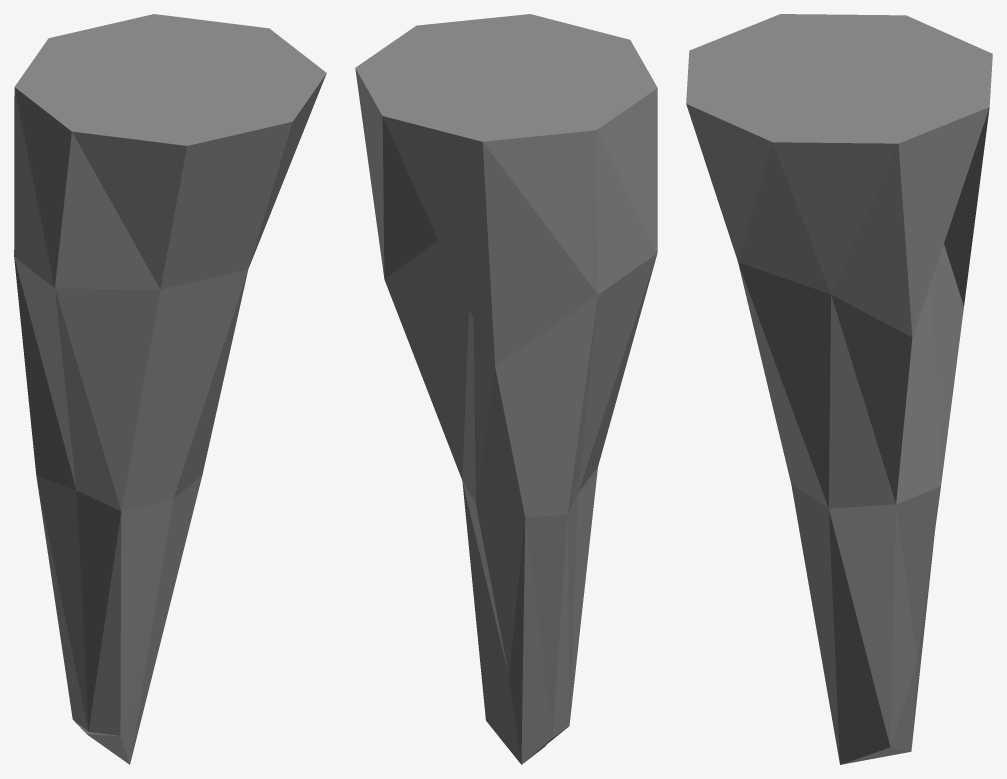
The model's file is Stalactite 5.fbx.
3 views of the same model, side by side, from view 1: azimuth 30°, elevation 25°; view 2: azimuth 150°, elevation 25°; view 3: azimuth 270°, elevation 25° (orthographic). The views are drawn at different scales.
Visible parts, largest first — view 1: Stalactite_5; view 2: Stalactite_5; view 3: Stalactite_5.
Part boxes in pixels (<box>): Stalactite_5: <box>14,14,326,764</box>; Stalactite_5: <box>355,14,657,764</box>; Stalactite_5: <box>686,14,992,764</box>.
Size of the model in its own units: 106 by 260 by 102.
1 material, 1 textured.
